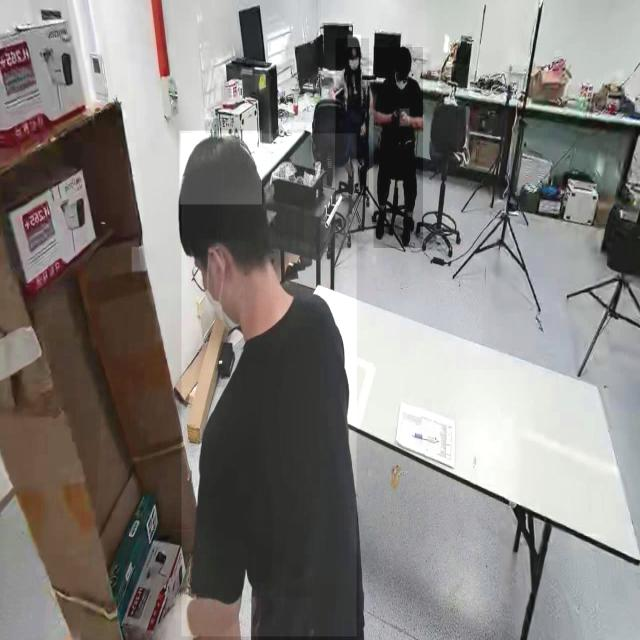face_mask: (195, 240, 245, 331)
hand_noglove: (399, 109, 409, 127), (391, 106, 400, 125)
head_nohelmet: (179, 131, 262, 205), (395, 44, 412, 64), (347, 35, 361, 48)
person: (181, 133, 357, 638), (373, 47, 423, 249), (335, 38, 369, 196)
shoes: (398, 212, 417, 249), (373, 204, 392, 240)
